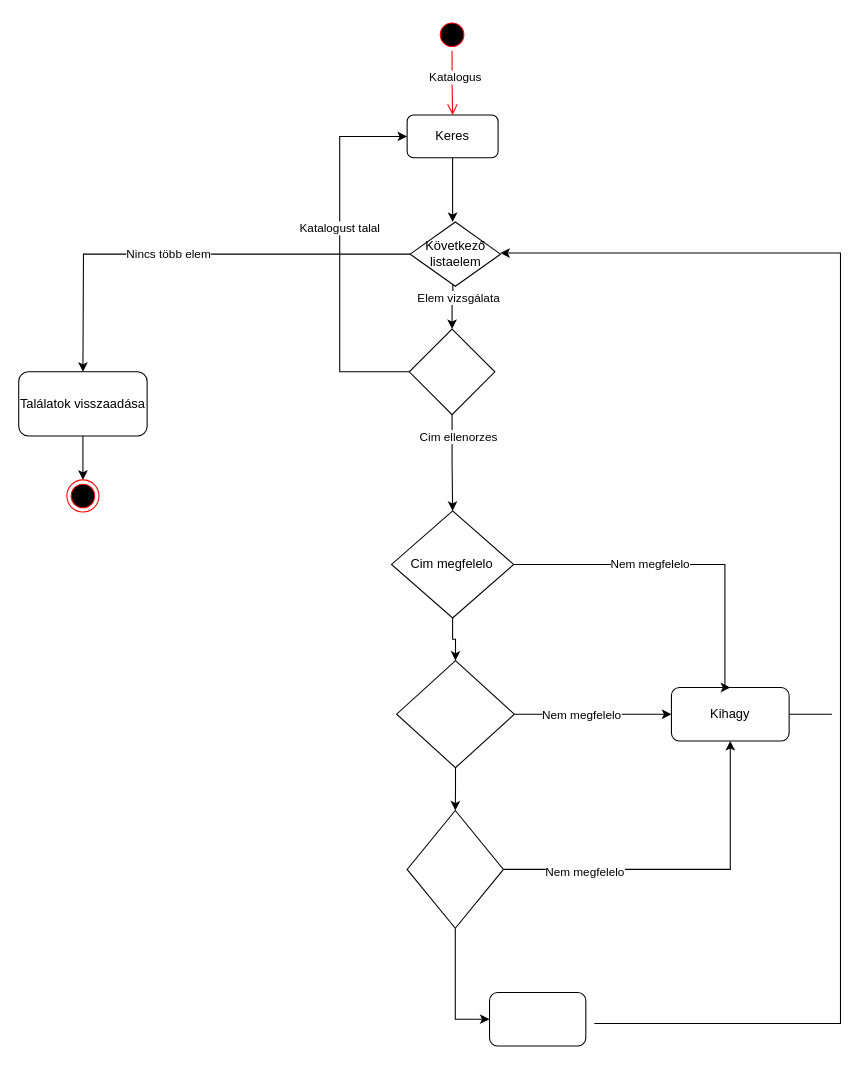
The diagram is 868 pixels wide and 1065 high, and some of its shapes have lost their labels. The shapes that lost their labels are listed below. From the top down, each one's centre as x and y in pixels, then its label:
At point 455,714: "Szerzo megfelelo".
At point 454,868: "Kiadas megfelelo".
At point 537,1018: "Hozzaad".
